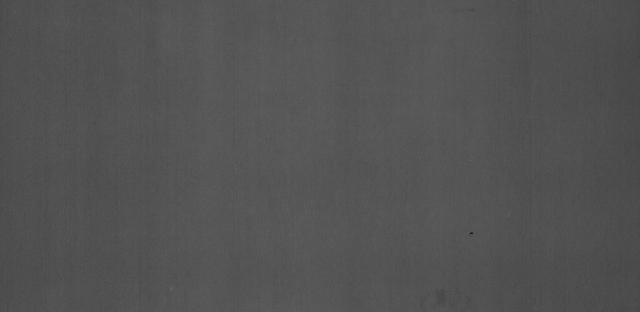inclusion: (455, 226, 485, 243)
